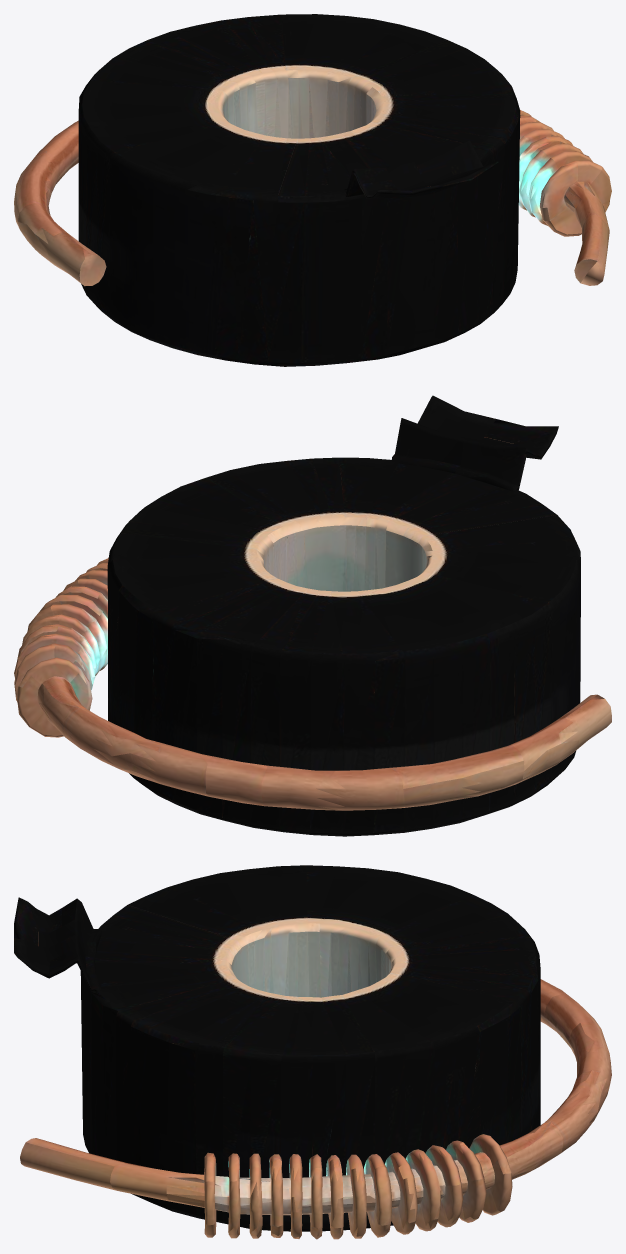
The model's file is insulation_tape.glb.
3 renders of one model, top to bottom at view 1: azimuth 30°, elevation 25°; view 2: azimuth 150°, elevation 25°; view 3: azimuth 270°, elevation 25°, orthographic. The views are drawn at different scales.
Size of the model in its own units: 1 by 0.3896 by 0.998.
Materials: 1 (1 with a texture image).
